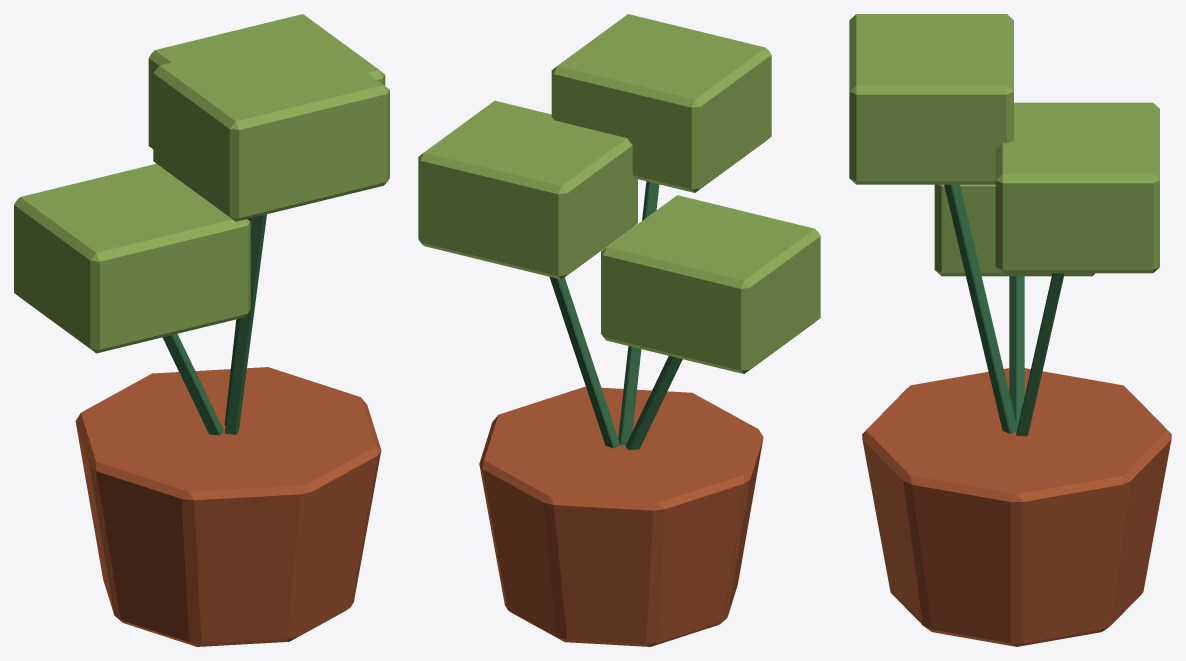
The model's file is small_pot.glb.
The picture shows the model from 3 angles, left to right: view 1: azimuth 30°, elevation 25°; view 2: azimuth 150°, elevation 25°; view 3: azimuth 270°, elevation 25°; orthographic projection. The views are drawn at different scales.
Visible parts, largest first — view 1: small_pot__body__leaf2, small_pot__body__tile, small_pot__body__green; view 2: small_pot__body__leaf2, small_pot__body__tile, small_pot__body__green; view 3: small_pot__body__tile, small_pot__body__leaf2, small_pot__body__green.
Boxes of the visible parts, <box> form: small_pot__body__leaf2: <box>14,14,389,353</box>; small_pot__body__tile: <box>75,367,381,646</box>; small_pot__body__green: <box>162,214,266,435</box>; small_pot__body__leaf2: <box>418,14,820,373</box>; small_pot__body__tile: <box>479,386,763,646</box>; small_pot__body__green: <box>549,181,682,450</box>; small_pot__body__tile: <box>862,368,1171,646</box>; small_pot__body__leaf2: <box>849,14,1159,276</box>; small_pot__body__green: <box>944,184,1064,436</box>.
Size of the model in its own units: 0.3233 by 0.5247 by 0.2803.
